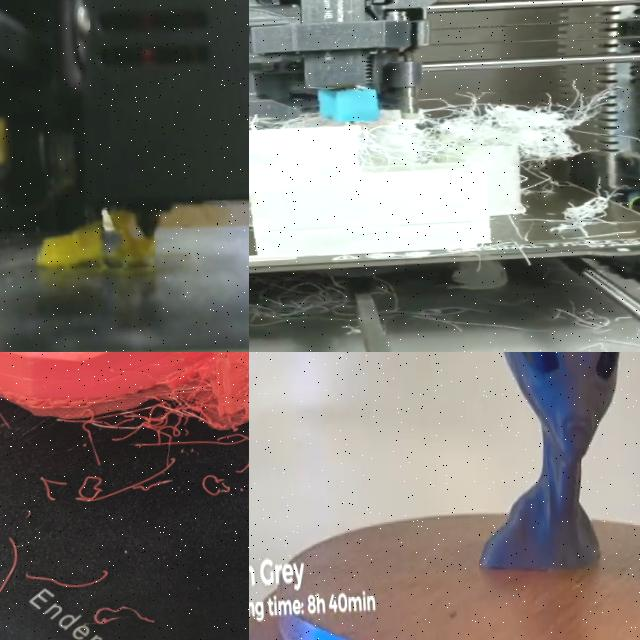spaghetti: (249, 62, 640, 267), (249, 274, 640, 352), (171, 352, 249, 459), (39, 209, 156, 270)
